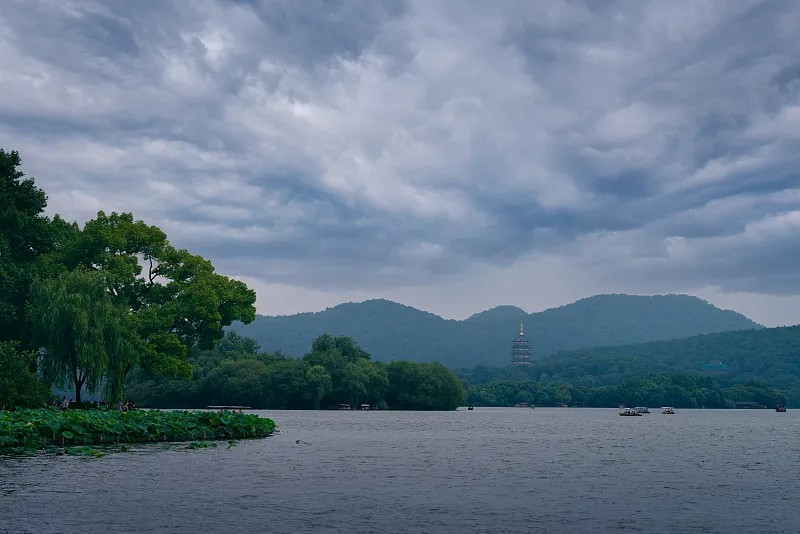Leifeng: (509, 319, 532, 369)
